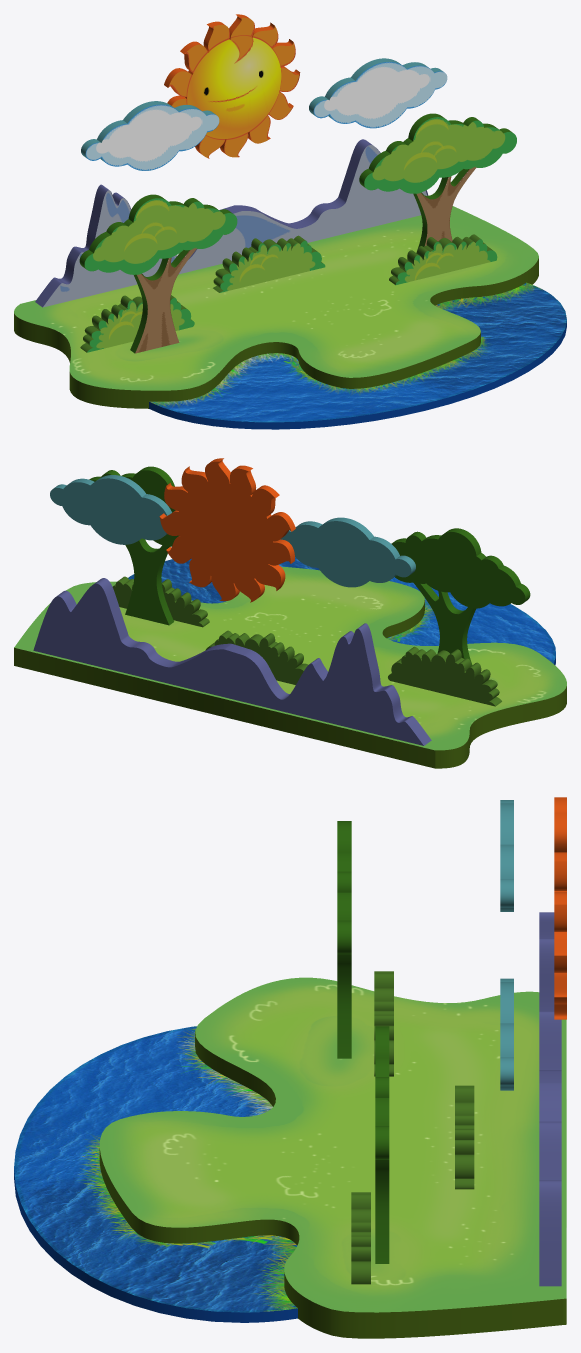
Rendered from campo.FBX.
3 views of the same model, one above another, from view 1: azimuth 30°, elevation 25°; view 2: azimuth 150°, elevation 25°; view 3: azimuth 270°, elevation 25° (orthographic). The views are drawn at different scales.
Parts seen in each view (by area): view 1: Shape1; view 2: Shape1; view 3: Shape1.
Part boxes in pixels (box(x1,y1,x2,y2)): Shape1: box(14, 14, 566, 429); Shape1: box(14, 458, 566, 768); Shape1: box(14, 797, 566, 1338).
Bounding box in the file's own units: 20.36 × 14.21 × 11.07.
14 materials, 7 textured.
